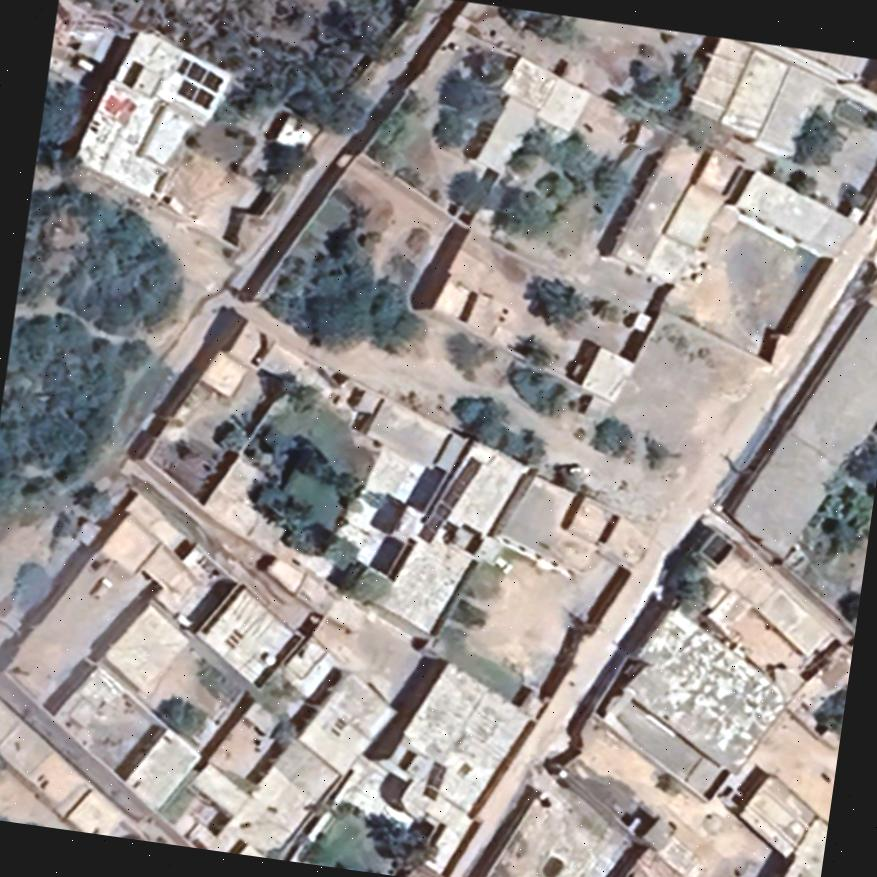Solarpanel: (413, 447, 487, 549), (165, 50, 228, 116), (420, 754, 452, 802)
